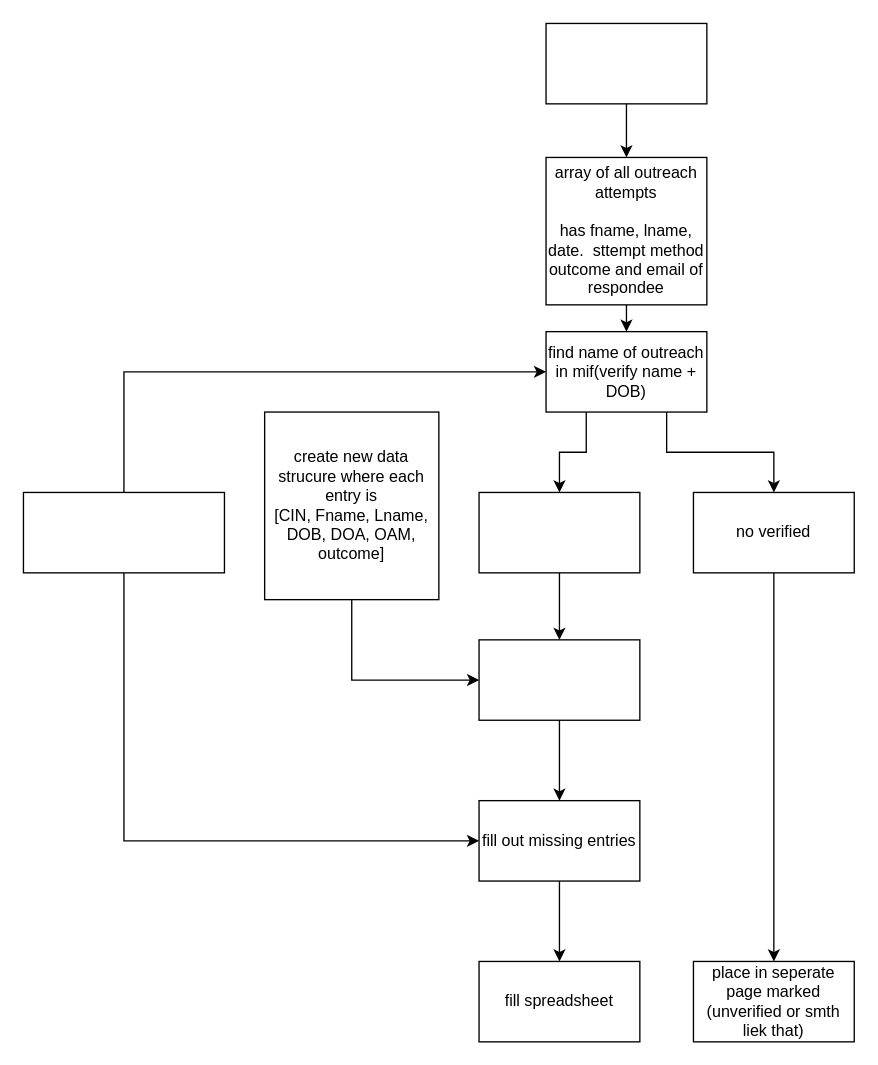
The diagram is 878 pixels wide and 1065 high, and some of its shapes have lost their labels. Here are the shapes that lost their labels. From the top down, the centre of each, then its label:
At point (626, 63): "outreachsurvey".
At point (123, 532): "mif".
At point (559, 532): "yes verified".
At point (559, 679): "create objects + feed into array".
